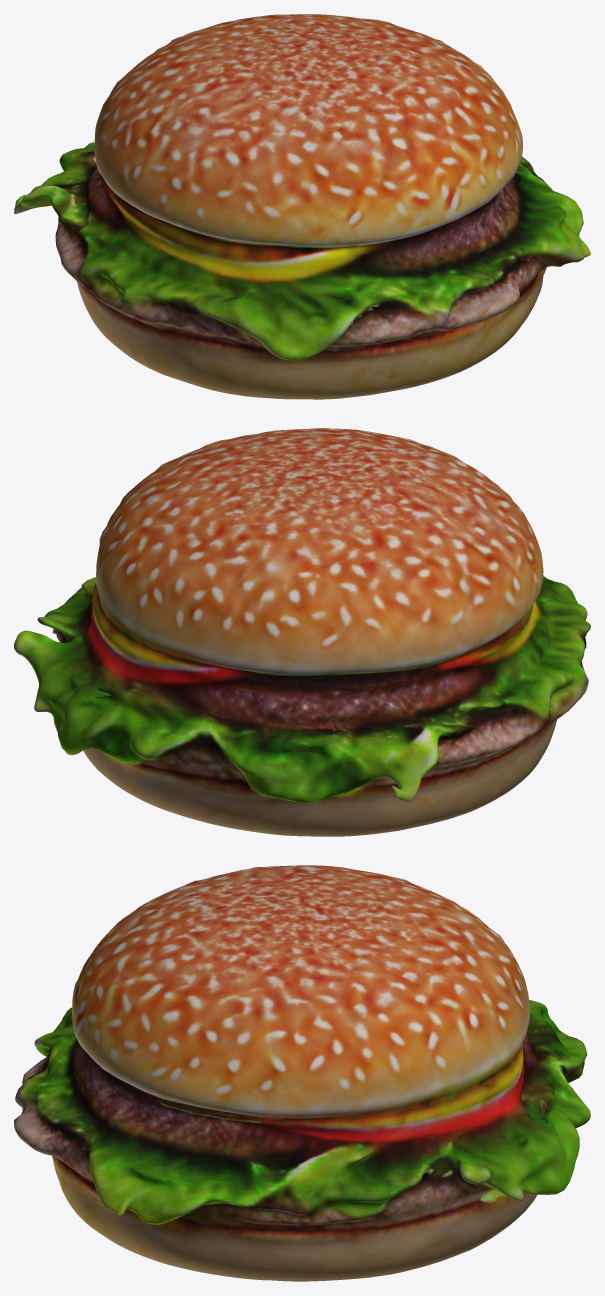
3 views of the same model, one above another, from view 1: azimuth 30°, elevation 25°; view 2: azimuth 150°, elevation 25°; view 3: azimuth 270°, elevation 25° (orthographic). The views are drawn at different scales.
Parts seen in each view (by area): view 1: mesh_base_material_0; view 2: mesh_base_material_0; view 3: mesh_base_material_0.
Part boxes in pixels (x1,y1,x2,y2): mesh_base_material_0: (14, 14, 590, 399); mesh_base_material_0: (14, 428, 590, 836); mesh_base_material_0: (14, 865, 590, 1281).
Size of the model in its own units: 0.9631 by 0.5639 by 0.9966.
1 material, 1 textured.
